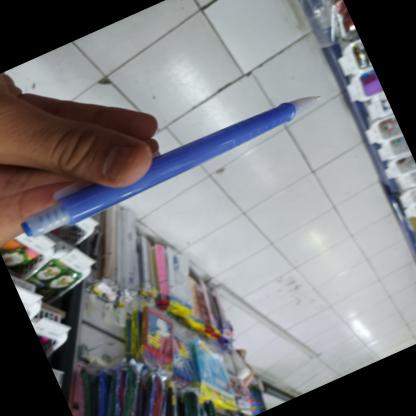pencil: (20, 85, 332, 246)
